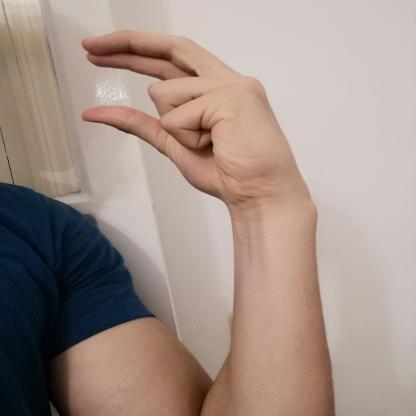DHELL: (67, 23, 313, 212)
